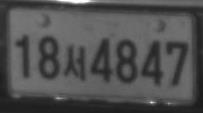1: (13, 34, 34, 78)
4: (140, 40, 165, 87), (90, 37, 113, 83)
7: (165, 41, 188, 86)
8: (38, 36, 61, 80), (115, 38, 137, 82)
서: (62, 45, 86, 81)
